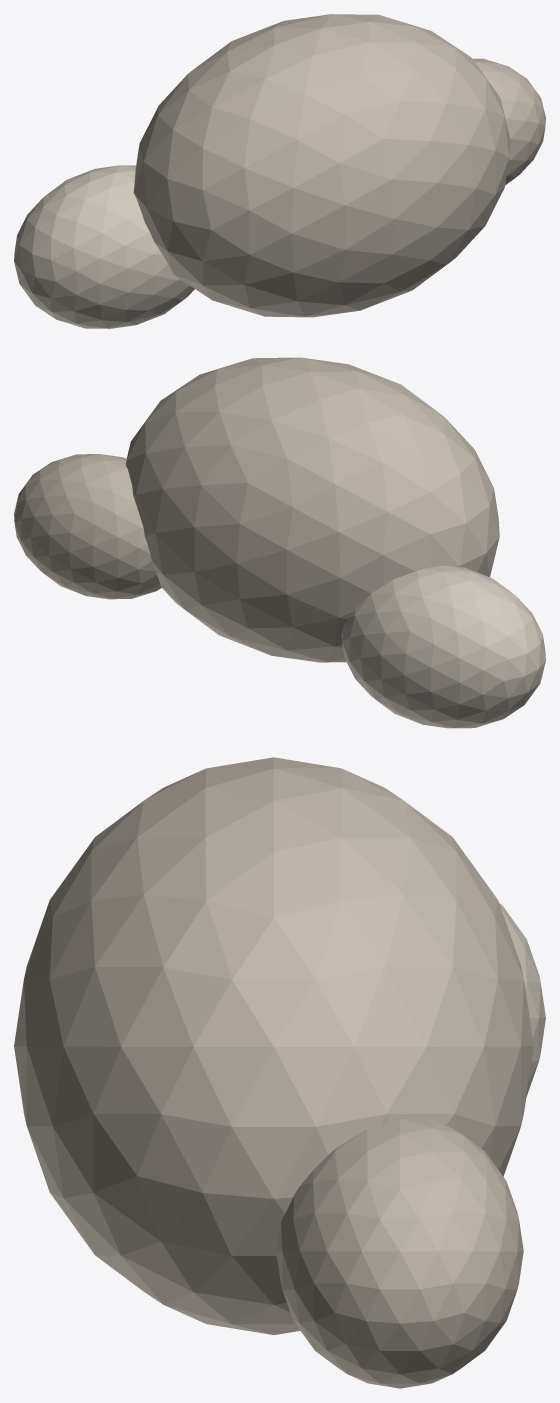
File: rock_cluster_small.glb
3 views of the same model, one above another, from view 1: azimuth 30°, elevation 25°; view 2: azimuth 150°, elevation 25°; view 3: azimuth 270°, elevation 25° (orthographic). The views are drawn at different scales.
Visible parts, largest first — view 1: rock_cluster_small_000, rock_cluster_small_001, rock_cluster_small_002; view 2: rock_cluster_small_000, rock_cluster_small_001, rock_cluster_small_002; view 3: rock_cluster_small_000, rock_cluster_small_002, rock_cluster_small_001.
Part boxes in pixels (x1=…): rock_cluster_small_000: x1=133, y1=14, x2=510, y2=317; rock_cluster_small_001: x1=14, y1=165, x2=194, y2=328; rock_cluster_small_002: x1=472, y1=58, x2=545, y2=185; rock_cluster_small_000: x1=125, y1=357, x2=499, y2=662; rock_cluster_small_001: x1=341, y1=565, x2=545, y2=728; rock_cluster_small_002: x1=14, y1=454, x2=161, y2=599; rock_cluster_small_000: x1=14, y1=757, x2=533, y2=1334; rock_cluster_small_002: x1=276, y1=1118, x2=523, y2=1388; rock_cluster_small_001: x1=499, y1=903, x2=545, y2=1096.
Bounding box in the file's own units: 1.08 × 0.5554 × 0.5385.
